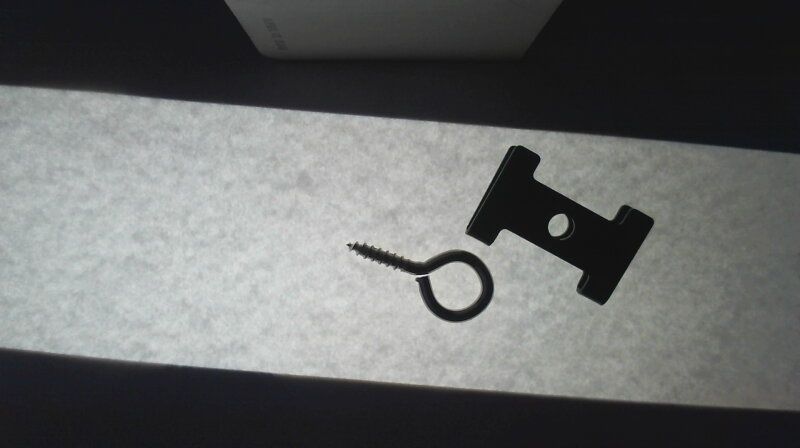O001: (344, 241, 494, 325)
O002: (466, 146, 654, 307)
